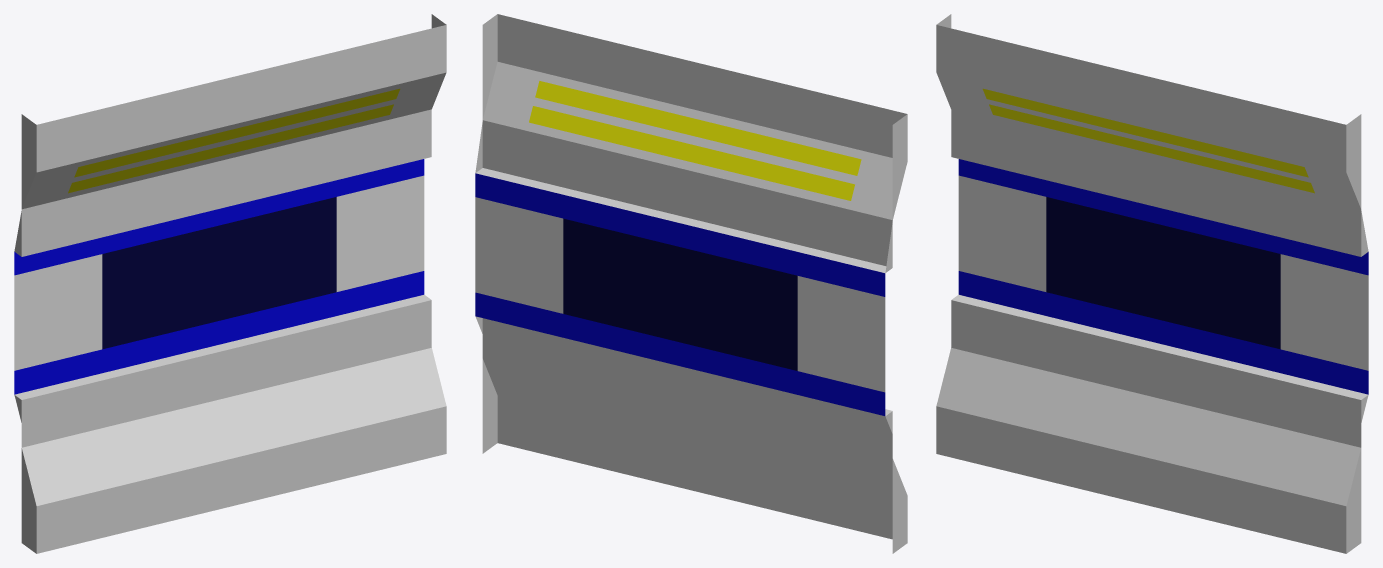
Rendered from Wall001WindowLigth.fbx.
3 views of the same model, side by side, from view 1: azimuth 30°, elevation 25°; view 2: azimuth 150°, elevation 25°; view 3: azimuth 330°, elevation 25° (orthographic).
Visible parts, largest first — view 1: Wall001WindowLigth; view 2: Wall001WindowLigth; view 3: Wall001WindowLigth.
Boxes of the visible parts, <box> form: Wall001WindowLigth: <box>14,14,446,553</box>; Wall001WindowLigth: <box>475,14,907,553</box>; Wall001WindowLigth: <box>936,14,1368,553</box>.
Bounding box in the file's own units: 2 × 2 × 0.1875.
